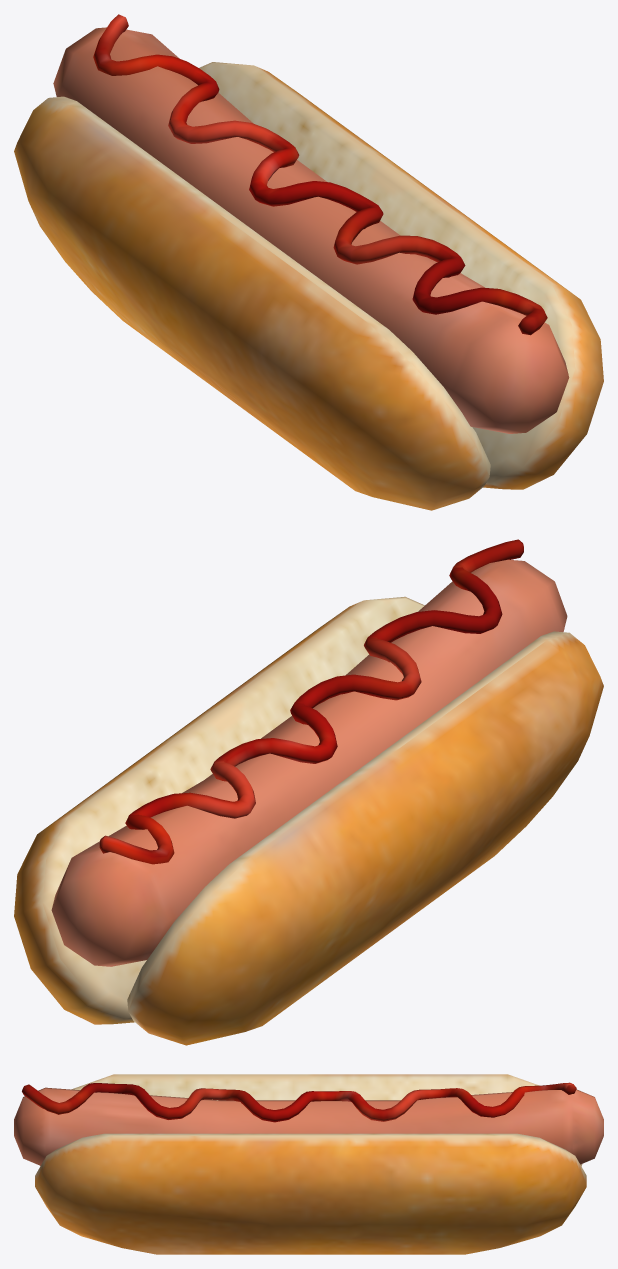
Rendered from hot_dog__with_ketchup.fbx.
The picture shows the model from 3 angles, top to bottom: view 1: azimuth 30°, elevation 25°; view 2: azimuth 150°, elevation 25°; view 3: azimuth 270°, elevation 25°; orthographic projection. The views are drawn at different scales.
Visible parts, largest first — view 1: hot_dog__with_ketchup; view 2: hot_dog__with_ketchup; view 3: hot_dog__with_ketchup.
Part boxes in pixels (bbox=[...]): hot_dog__with_ketchup: bbox=[14, 14, 603, 510]; hot_dog__with_ketchup: bbox=[14, 539, 603, 1045]; hot_dog__with_ketchup: bbox=[14, 1074, 603, 1254].
Size of the model in its own units: 7.19 by 5.5 by 19.25.
1 material, 1 textured.
